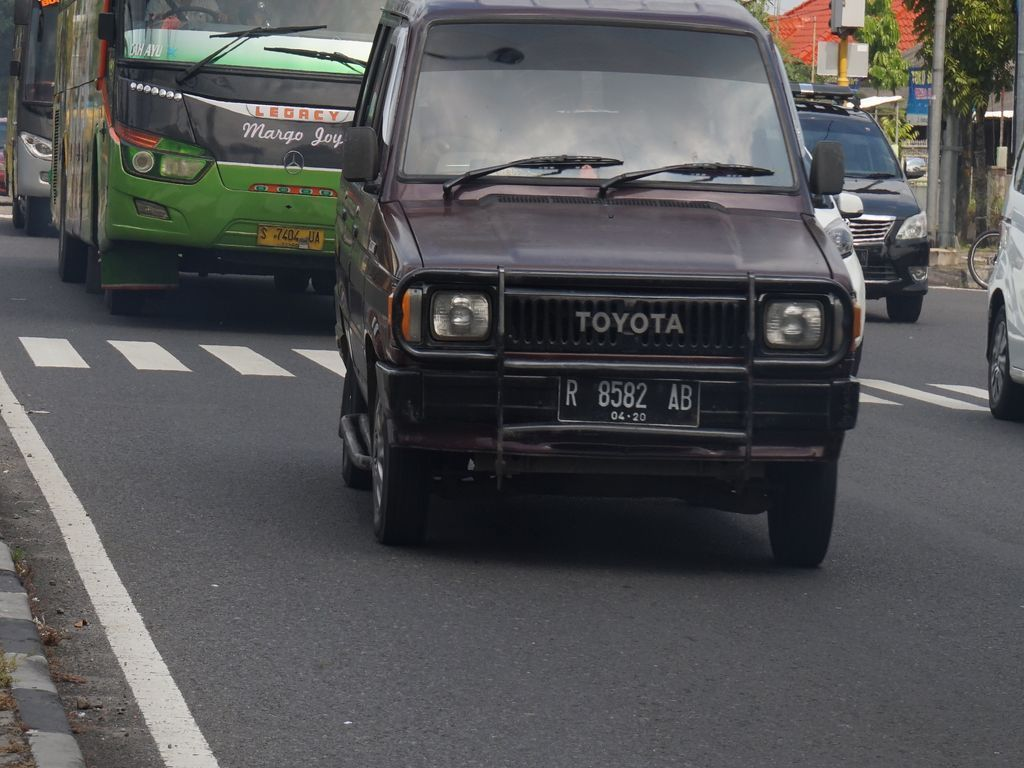plate: (564, 379, 695, 419), (258, 228, 322, 246)
